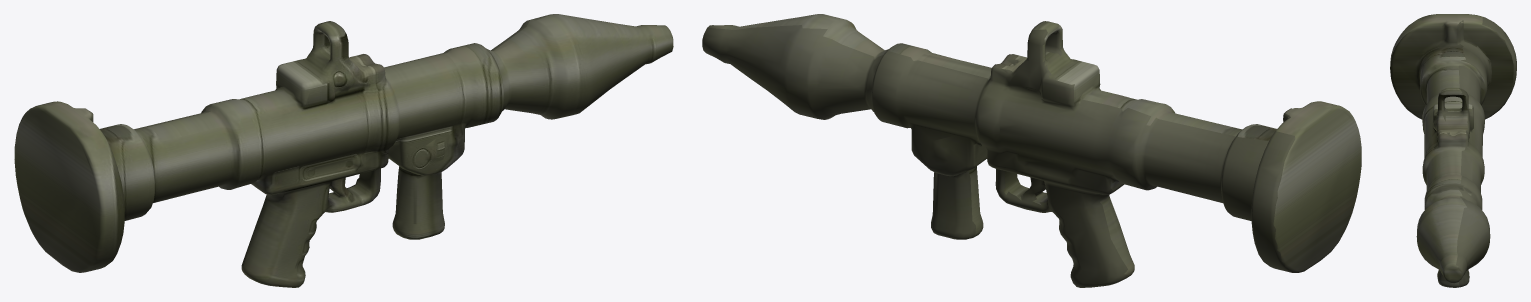
File: bazooka.glb
The picture shows the model from 3 angles, left to right: view 1: azimuth 30°, elevation 25°; view 2: azimuth 150°, elevation 25°; view 3: azimuth 270°, elevation 25°; orthographic projection. The views are drawn at different scales.
Visible parts, largest first — view 1: bazooka; view 2: bazooka; view 3: bazooka.
Part boxes in pixels (x1=…): bazooka: x1=14, y1=14, x2=673, y2=287; bazooka: x1=702, y1=14, x2=1361, y2=287; bazooka: x1=1390, y1=14, x2=1516, y2=287.
Bounding box in the file's own units: 1.25 × 0.4863 × 0.3165.
1 material, 1 textured.
